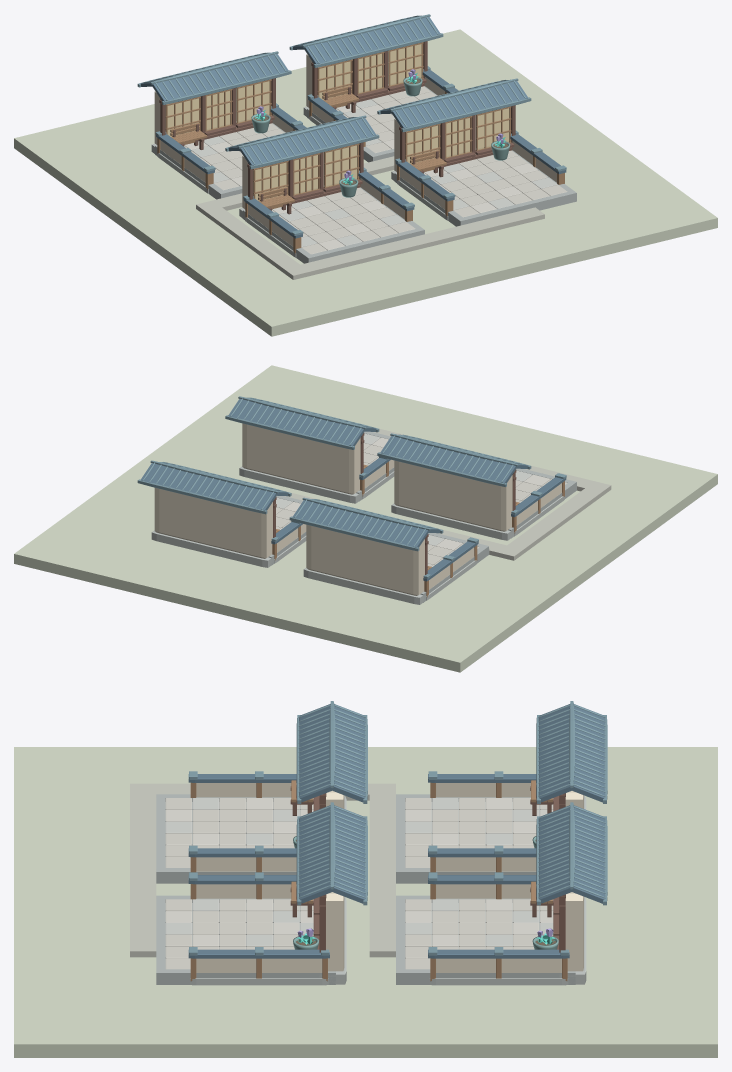
File: gggame_courtyard_paving_soft_v3_04.glb
The picture shows the model from 3 angles, top to bottom: view 1: azimuth 30°, elevation 25°; view 2: azimuth 150°, elevation 25°; view 3: azimuth 270°, elevation 25°; orthographic projection. The views are drawn at different scales.
Visible parts, largest first — view 1: ground, home-3-decor, home-2-decor, home-0-decor, home-1-decor, home-3-floor, home-2-floor, home-0-floor, home-1-floor, walkway-spine, walkway-row-1-1, walkway-row-1-0; view 2: ground, home-0-decor, home-2-decor, home-1-decor, home-3-decor, walkway-spine, home-0-floor, home-2-floor, home-3-floor, home-1-floor; view 3: ground, home-1-decor, home-3-decor, home-0-decor, home-2-decor, home-1-floor, home-3-floor, home-2-floor, home-0-floor, walkway-row-0-1, walkway-row-1-1, walkway-spine (+6 smaller).
Boxes of the visible parts, box(x1,y1,x2,y2) form: ground: box(14, 29, 717, 336); home-3-decor: box(377, 78, 566, 220); home-2-decor: box(225, 115, 414, 257); home-0-decor: box(137, 51, 306, 193); home-1-decor: box(289, 14, 458, 146); home-3-floor: box(394, 150, 576, 226); home-2-floor: box(242, 187, 424, 263); home-0-floor: box(155, 123, 285, 199); home-1-floor: box(307, 86, 437, 162); walkway-spine: box(196, 200, 309, 279); walkway-row-1-1: box(383, 215, 511, 255); walkway-row-1-0: box(300, 252, 359, 275); ground: box(14, 365, 717, 672); home-0-decor: box(289, 497, 478, 604); home-2-decor: box(377, 433, 566, 540); home-1-decor: box(137, 460, 306, 567); home-3-decor: box(225, 396, 394, 503); walkway-spine: box(497, 481, 611, 560); home-0-floor: box(420, 533, 489, 602); home-2-floor: box(508, 468, 576, 538); home-3-floor: box(356, 431, 394, 501); home-1-floor: box(268, 496, 306, 565); ground: box(14, 747, 717, 1057); home-1-decor: box(428, 802, 607, 985); home-3-decor: box(188, 802, 367, 985); home-0-decor: box(428, 701, 607, 872); home-2-decor: box(188, 701, 367, 872); home-1-floor: box(396, 895, 575, 984); home-3-floor: box(156, 895, 335, 984); home-2-floor: box(156, 794, 313, 883); home-0-floor: box(396, 794, 553, 883); walkway-row-0-1: box(369, 850, 395, 929); walkway-row-1-1: box(130, 850, 156, 929); walkway-spine: box(130, 783, 395, 800).
Size of the model in its own units: 18.8 by 3.43 by 18.8.
